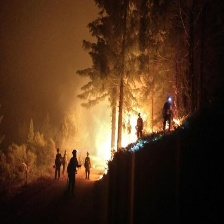fire: (97, 134, 131, 160)
smoke: (7, 9, 100, 128)
